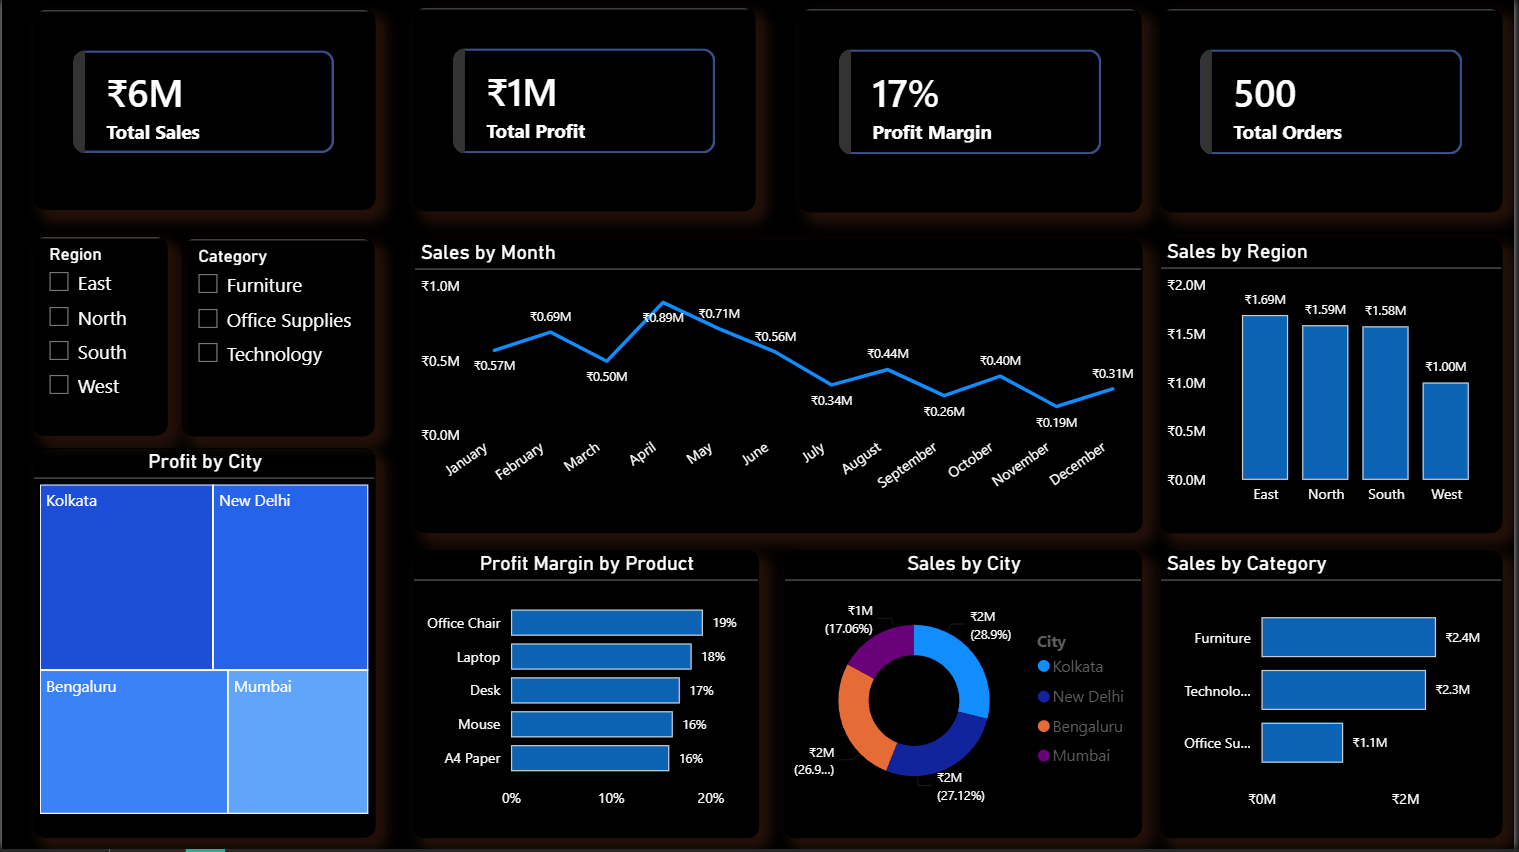

What the dashboard file says about the page in this screenshot:
{"tool":"powerbi","page":{"name":"Page 1","canvas":[1280,720],"ordinal":0},"visuals":[{"type":"cardVisual","fields":{"Data":["SalesData.TotalSales"]},"box":[26.3,8.2,289.9,170.3],"z":0},{"type":"cardVisual","fields":{"Data":["SalesData.Total Profit"]},"box":[348.1,6.8,290,172.5],"z":1000},{"type":"cardVisual","fields":{"Data":["SalesData.Profit Margin%"]},"box":[675.5,8,290,172.9],"z":2000},{"type":"cardVisual","fields":{"Data":["Count(SalesData.Order ID)"]},"box":[981.2,8,290,172.9],"z":3000},{"type":"clusteredBarChart","title":"Sales by Category","fields":{"Category":["SalesData.Category"],"Y":["SalesData.TotalSales"]},"box":[980.9,466.7,289.7,244],"z":4000},{"type":"lineChart","title":"Sales by Month","fields":{"Category":["SalesData.Order Date.Variation.Date Hierarchy.Month","SalesData.Order Date.Variation.Date Hierarchy.Day"],"Y":["SalesData.TotalSales"]},"box":[348.8,202.9,616.9,249.1],"z":5000},{"type":"columnChart","fields":{"Category":["SalesData.Region"],"Y":["SalesData.TotalSales"]},"box":[980.9,202.4,289.7,249.9],"z":6000},{"type":"slicer","fields":{"Values":["SalesData.Region"]},"box":[26.3,200.8,113.5,169.4],"z":7000},{"type":"slicer","fields":{"Values":["SalesData.Category"]},"box":[152.5,202.4,163.5,167.7],"z":8000},{"type":"donutChart","title":"Sales by City","fields":{"Category":["SalesData.City"],"Y":["SalesData.Total Sales"]},"box":[662.2,466.5,303.2,244],"z":9000},{"type":"clusteredBarChart","title":"Profit Margin by Product","fields":{"Category":["SalesData.Product Name"],"Y":["SalesData.Profit Margin%"]},"box":[347.9,466.5,292.6,243.7],"z":10000},{"type":"treemap","title":"Profit by City","fields":{"Group":["SalesData.City"],"Values":["Sum(SalesData.Profit)"]},"box":[26.3,380.5,289.9,329.7],"z":11000}]}

Visuals, with their boxes in screenshot pixels (x1, y1, x2, y2), scaled from the page's 1280x720 canvas onto the 1519x852 screenshot:
cardVisual - SalesData.TotalSales: <region>31, 10, 375, 211</region>
cardVisual - SalesData.Total Profit: <region>413, 8, 757, 212</region>
cardVisual - SalesData.Profit Margin%: <region>802, 9, 1146, 214</region>
cardVisual - Count(SalesData.Order ID): <region>1164, 9, 1509, 214</region>
"Sales by Category" clusteredBarChart: <region>1164, 552, 1508, 841</region>
"Sales by Month" lineChart: <region>414, 240, 1146, 535</region>
columnChart - SalesData.Region x SalesData.TotalSales: <region>1164, 240, 1508, 535</region>
slicer - SalesData.Region: <region>31, 238, 166, 438</region>
slicer - SalesData.Category: <region>181, 240, 375, 438</region>
"Sales by City" donutChart: <region>786, 552, 1146, 841</region>
"Profit Margin by Product" clusteredBarChart: <region>413, 552, 760, 840</region>
"Profit by City" treemap: <region>31, 450, 375, 840</region>
